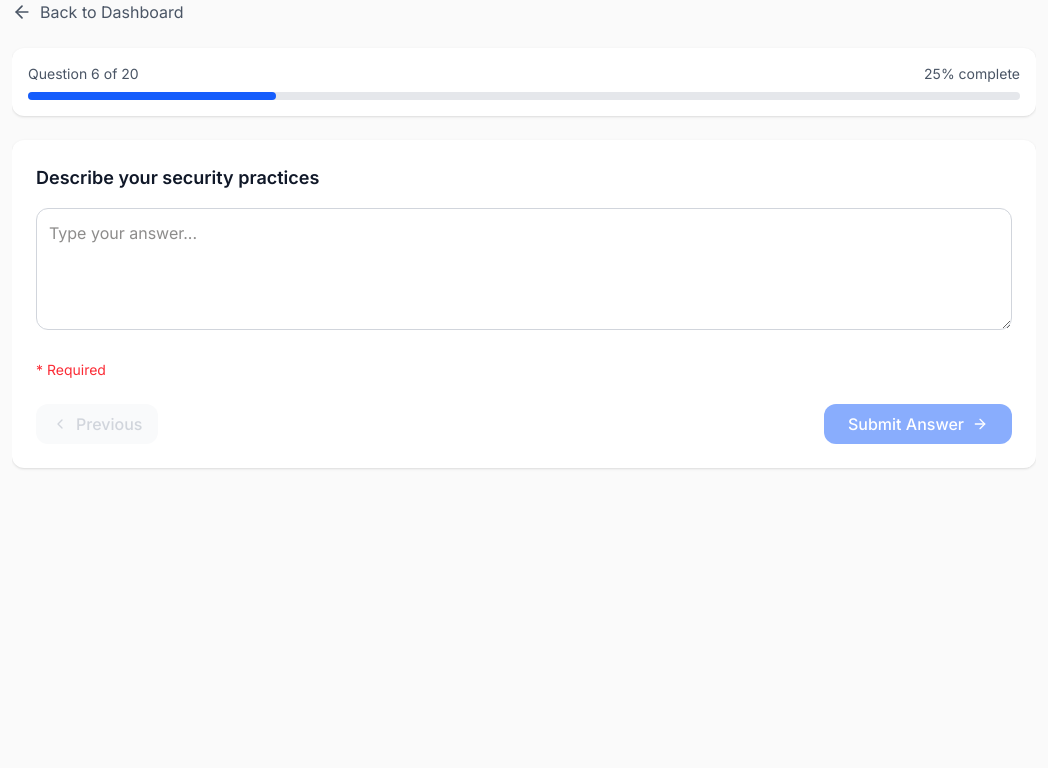
Test: QuestionnairePage › AI Follow-up Functionality › allows skipping follow-up
This screenshot has width=1048, height=768.
Type "We have basic security measures in place." into the text box with placeholder "Type your answer..." at (524, 269), box [36, 208, 1012, 330]
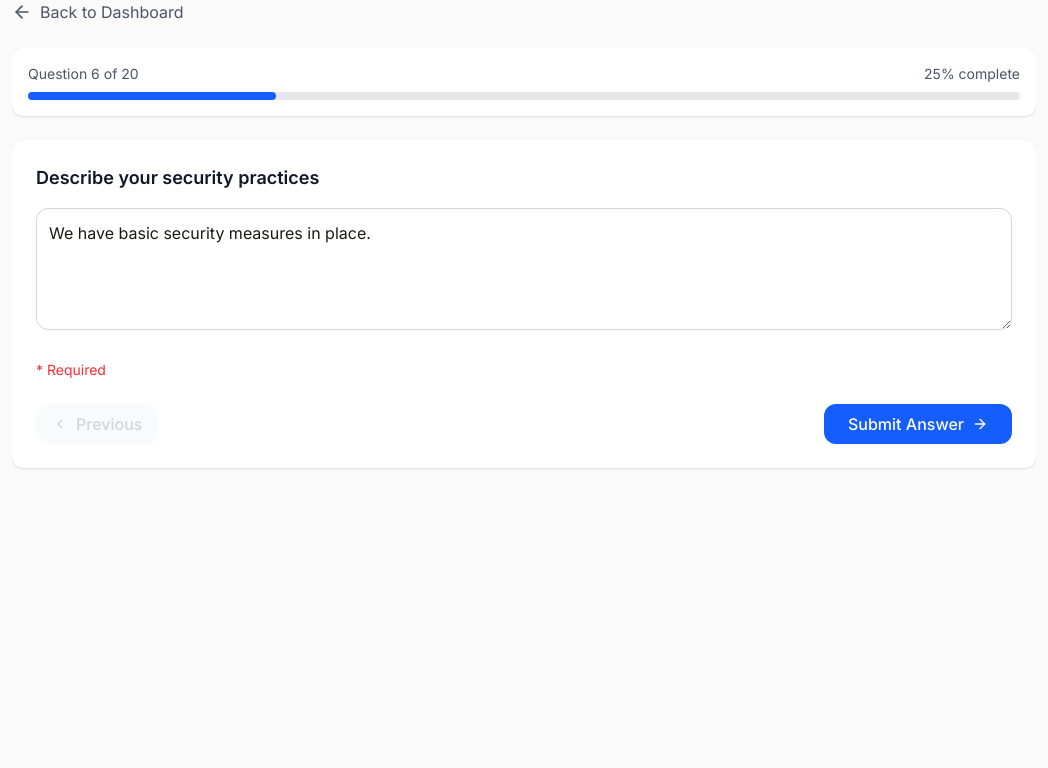
Click the button "Submit Answer" at (918, 424), box [824, 404, 1012, 444]
(page scrolled)
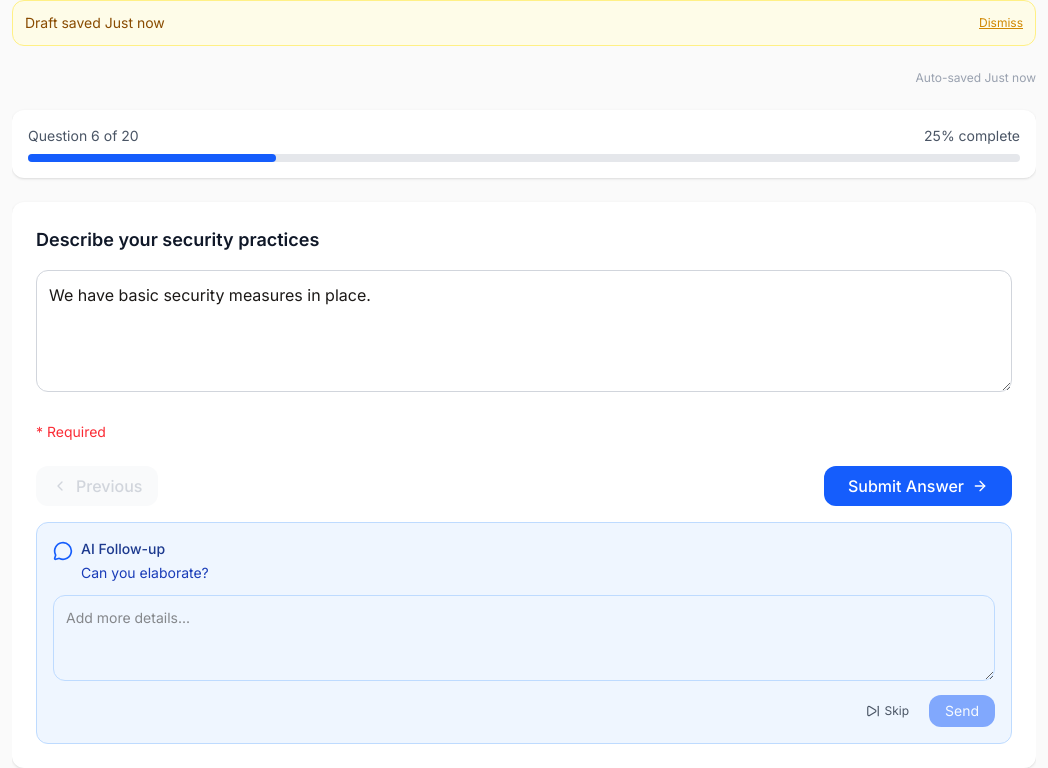
Check: the text "AI Follow-up" is shown, box [81, 540, 165, 557]
Click the button "Skip" at (888, 711), box [854, 697, 921, 725]
(page scrolled)
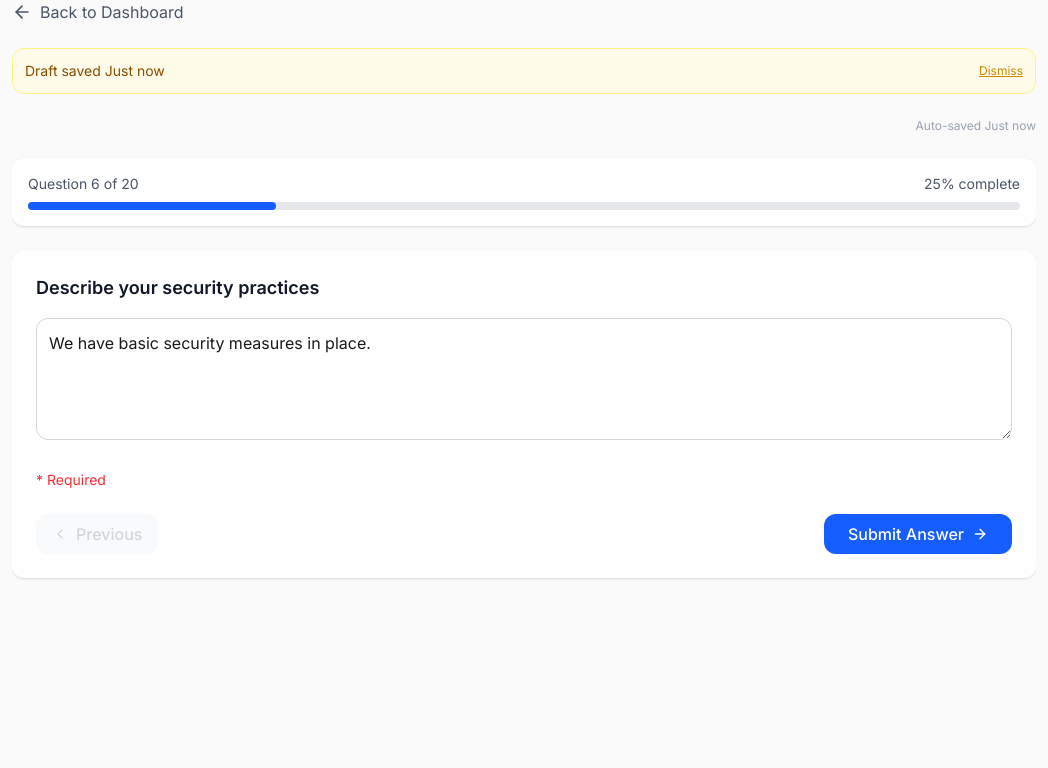
Check: the text "AI Follow-up" is gone
